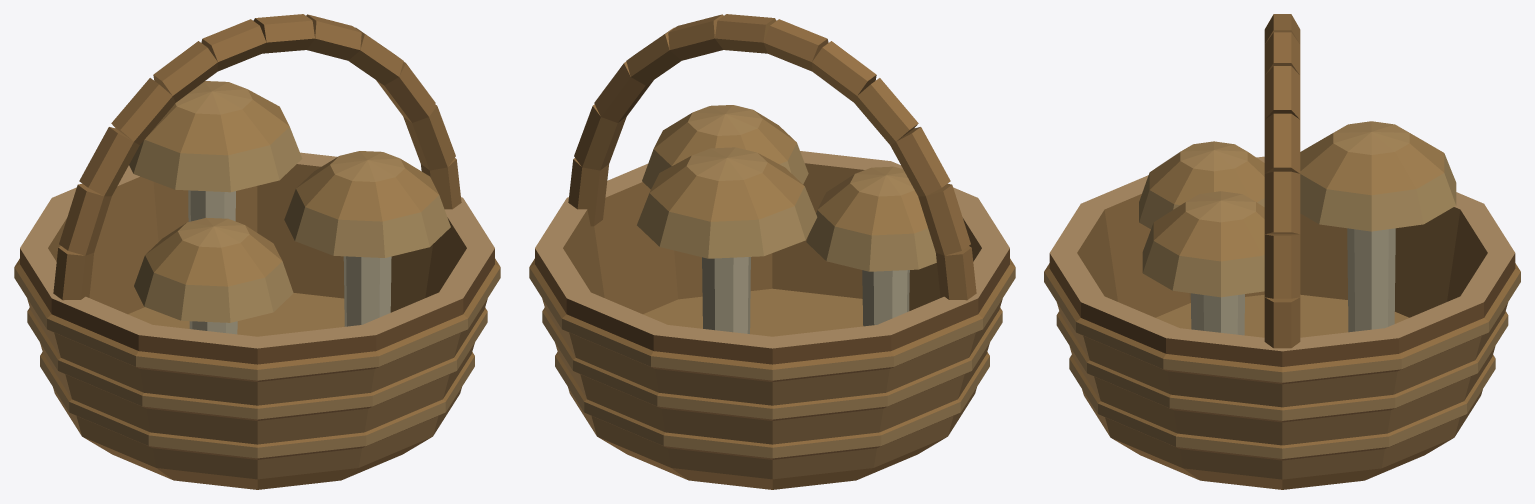
File: WoodlandMushroomBasket.glb
3 renders of one model, left to right at view 1: azimuth 30°, elevation 25°; view 2: azimuth 150°, elevation 25°; view 3: azimuth 270°, elevation 25°, orthographic. The views are drawn at different scales.
Parts seen in each view (by area): view 1: WoodlandMushroomBasket_Arrangement; view 2: WoodlandMushroomBasket_Arrangement; view 3: WoodlandMushroomBasket_Arrangement.
Part boxes in pixels (x1,y1,x2,y2): WoodlandMushroomBasket_Arrangement: [14, 14, 500, 489]; WoodlandMushroomBasket_Arrangement: [529, 14, 1015, 489]; WoodlandMushroomBasket_Arrangement: [1044, 14, 1520, 489].
Bounding box in the file's own units: 0.6961 × 0.6273 × 0.6961.
